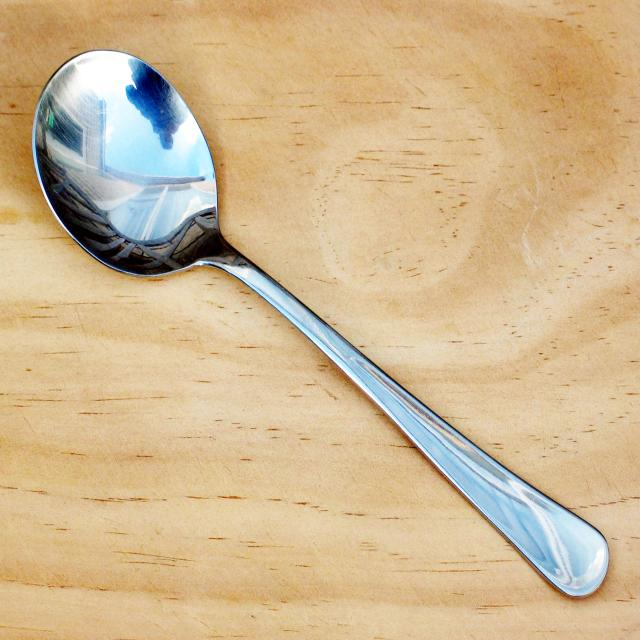spoon: (29, 36, 618, 612)
